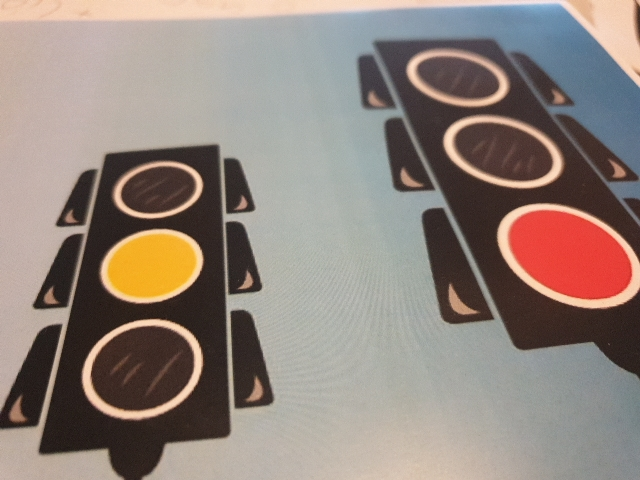amber: (112, 157, 206, 418)
red: (432, 48, 599, 307)
